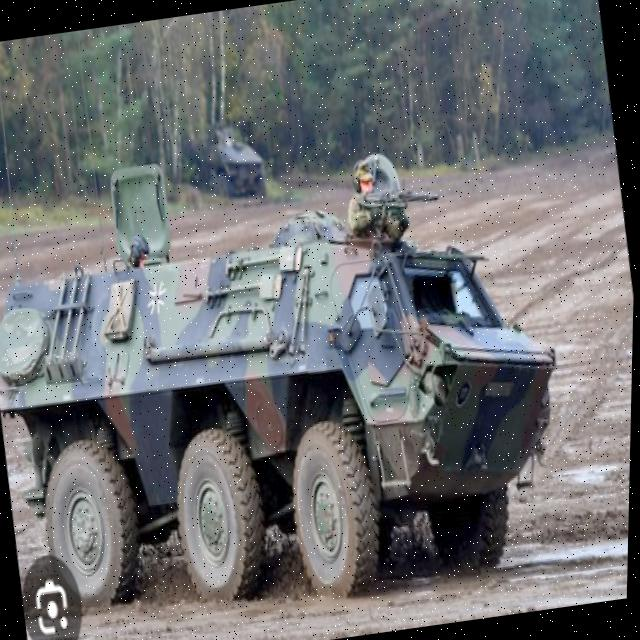MIL_APC: (0, 140, 609, 640)
